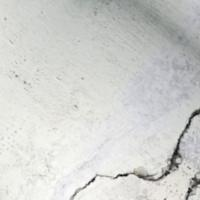crack: (59, 101, 199, 199)
